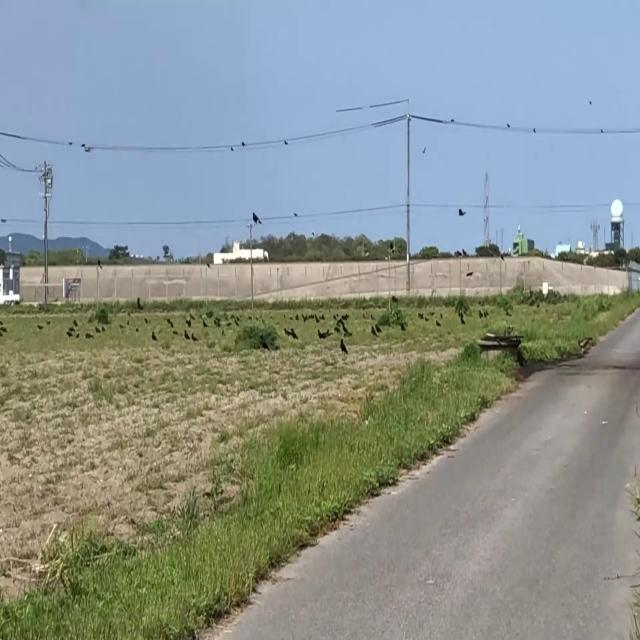bird: (251, 207, 261, 230), (81, 137, 90, 154), (458, 203, 466, 220), (341, 336, 347, 358), (262, 334, 267, 352), (372, 322, 376, 340), (292, 324, 296, 342), (152, 325, 156, 343), (400, 317, 404, 334), (285, 323, 289, 339), (68, 136, 72, 150), (241, 138, 245, 150), (479, 306, 482, 319)
